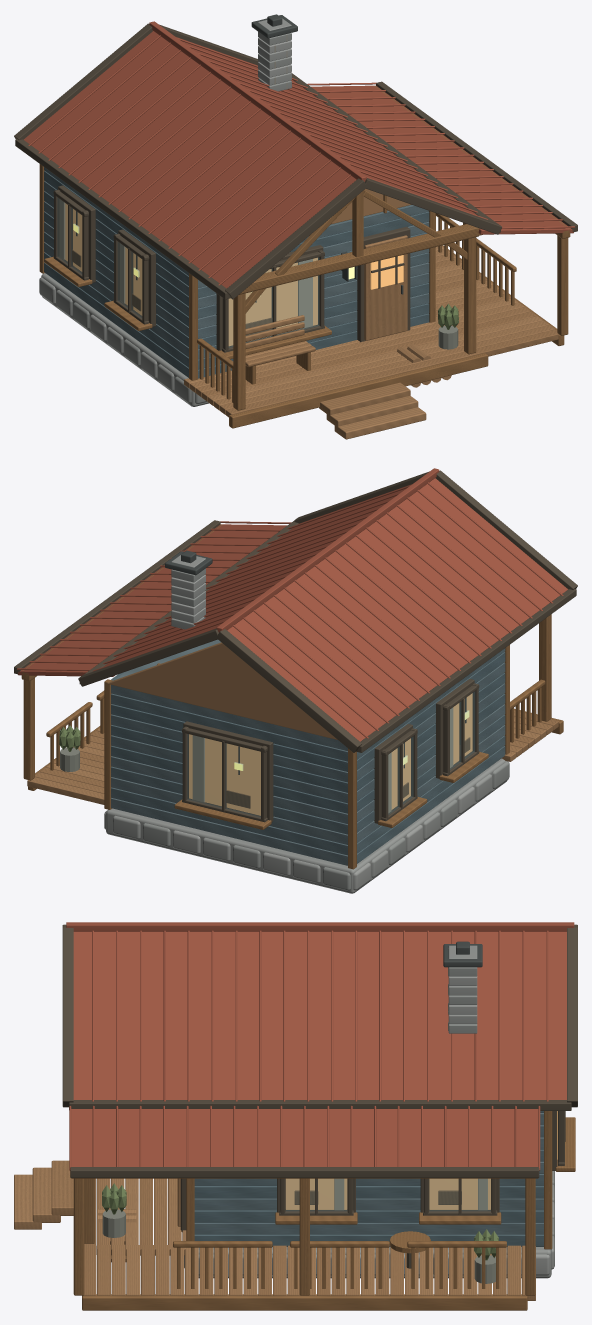
Rendered from Lake_Cabin_GableBlue.glb.
The picture shows the model from 3 angles, top to bottom: view 1: azimuth 30°, elevation 25°; view 2: azimuth 150°, elevation 25°; view 3: azimuth 270°, elevation 25°; orthographic projection. The views are drawn at different scales.
Visible parts, largest first — view 1: Cabin_GableBlue; view 2: Cabin_GableBlue; view 3: Cabin_GableBlue.
Boxes of the visible parts, x1=… form: Cabin_GableBlue: x1=14, y1=14, x2=577, y2=439; Cabin_GableBlue: x1=14, y1=468, x2=577, y2=893; Cabin_GableBlue: x1=14, y1=922, x2=577, y2=1310.
Size of the model in its own units: 8.34 by 5.82 by 9.62.
Materials: 22 (9 with a texture image).
